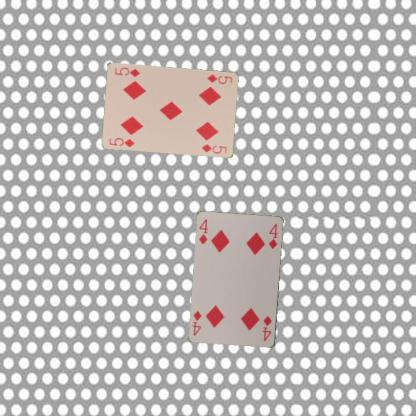4d: (260, 313, 273, 343), (197, 216, 209, 246)
5d: (204, 72, 234, 85), (107, 135, 136, 148)
